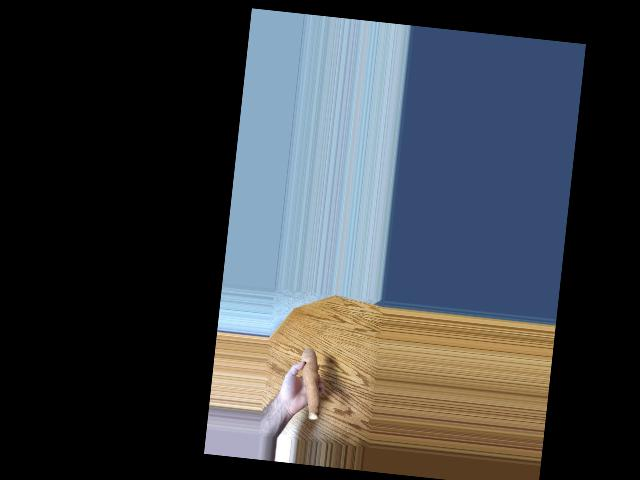sweet_potato: (297, 343, 326, 417)
